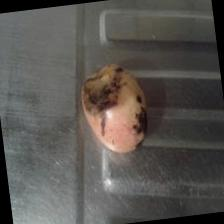Mango Overripe: (75, 58, 152, 155)
